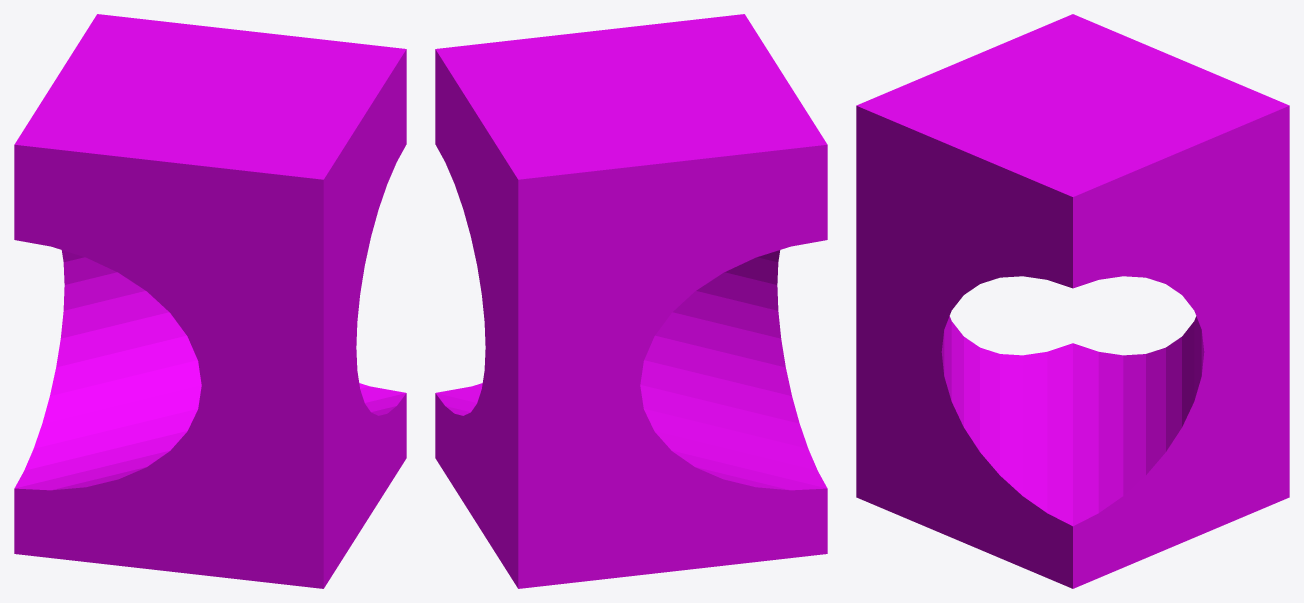
The model's file is var_2.glb.
3 views of the same model, side by side, from view 1: azimuth 30°, elevation 25°; view 2: azimuth 150°, elevation 25°; view 3: azimuth 270°, elevation 25° (orthographic). The views are drawn at different scales.
Parts seen in each view (by area): view 1: var_2; view 2: var_2; view 3: var_2.
Part boxes in pixels (bbox=[...]): var_2: bbox=[14, 14, 406, 588]; var_2: bbox=[435, 14, 827, 588]; var_2: bbox=[856, 14, 1289, 588].
Size of the model in its own units: 1.99 by 1.98 by 1.99.
